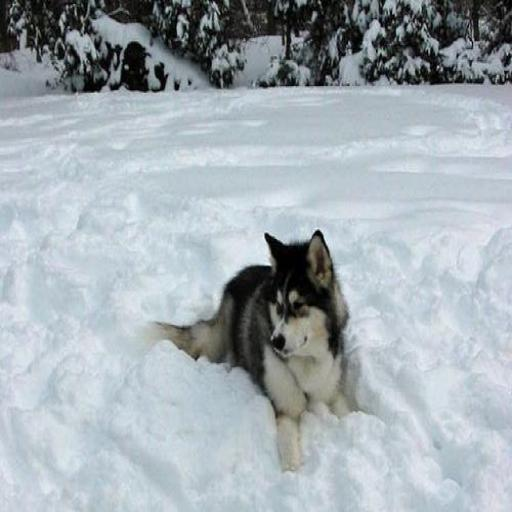dog_face: (254, 228, 341, 358)
